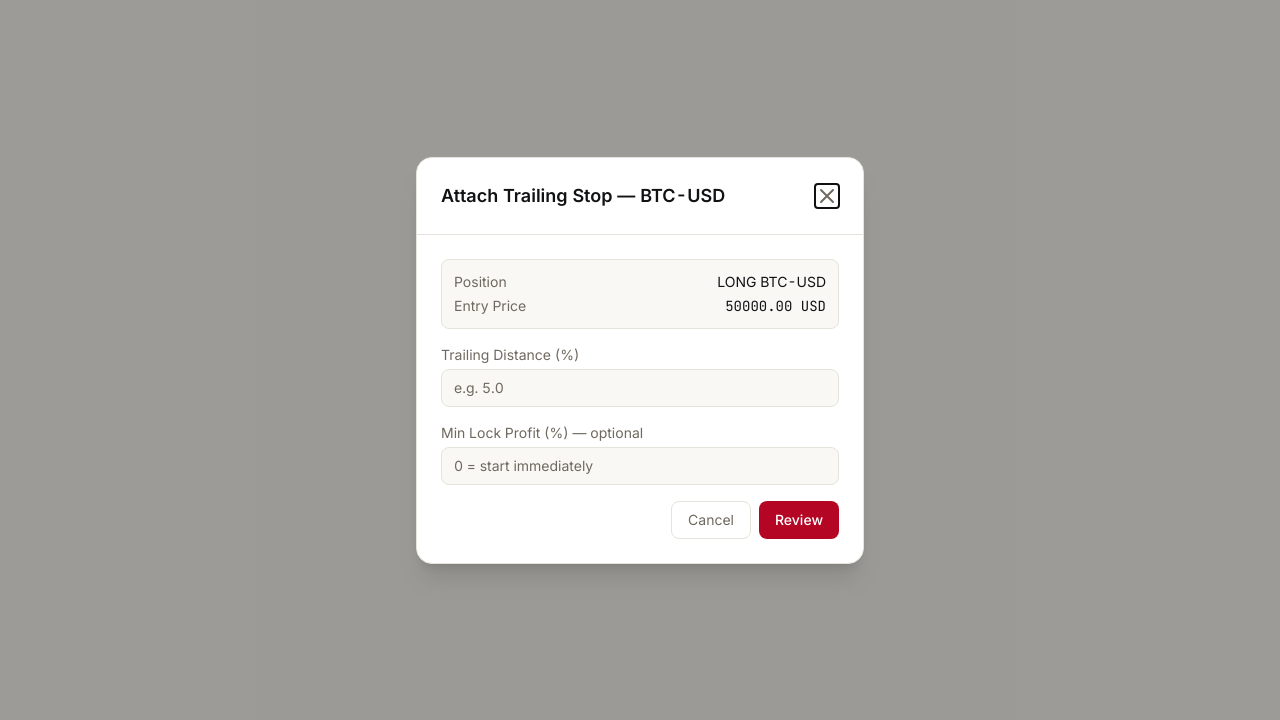
AttachTrailingStopModal › advances to confirm step with valid params
Type "5" into the number field with test id "trailing-pct-input" at {"x": 640, "y": 388}, box 441,368 -> 839,406
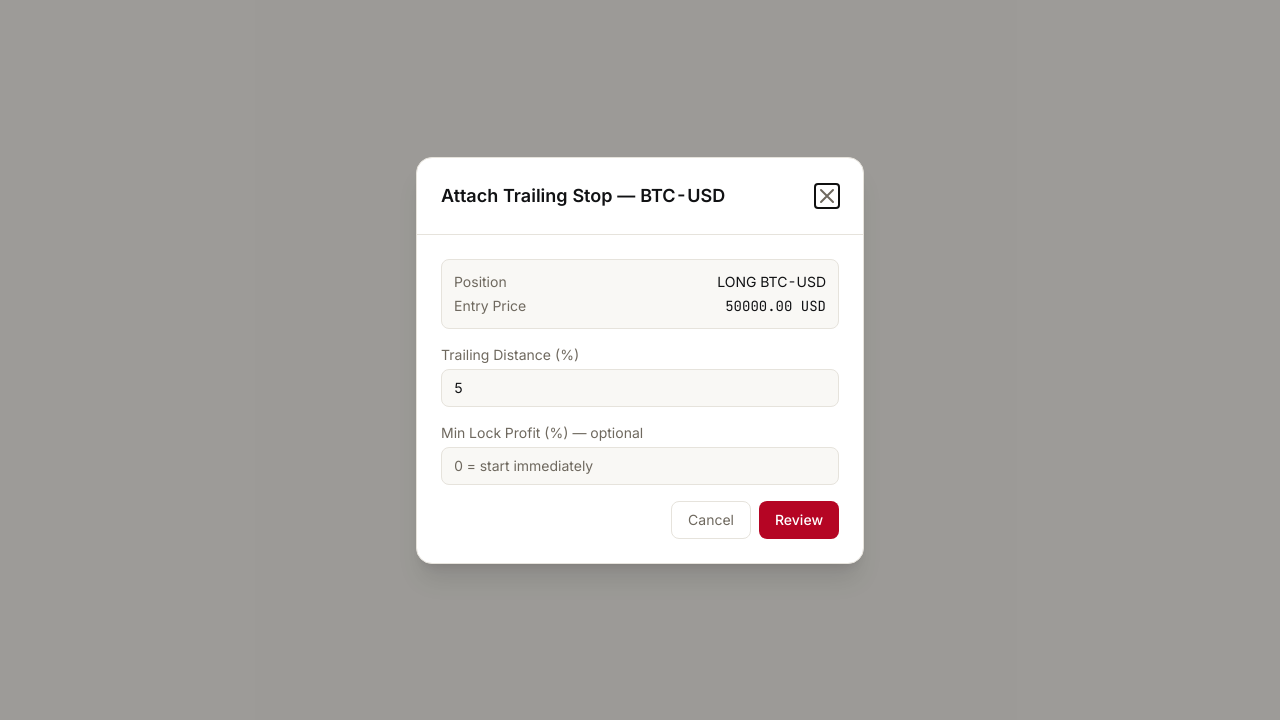
Click the button with test id "trailing-stop-submit" at {"x": 799, "y": 520}, box 759,500 -> 839,538
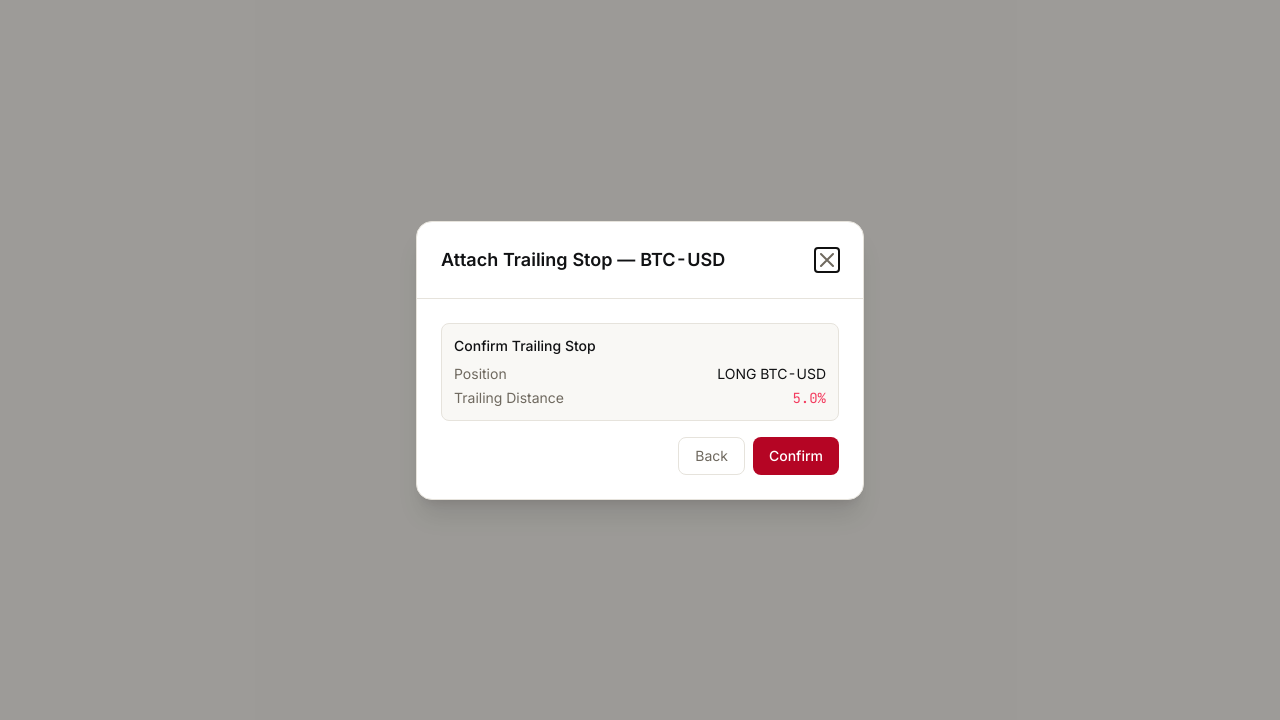
Expected: the text "Confirm Trailing Stop" is shown, 454,336 -> 596,354
Expected: the text "5.0%" is shown, 792,388 -> 826,408
